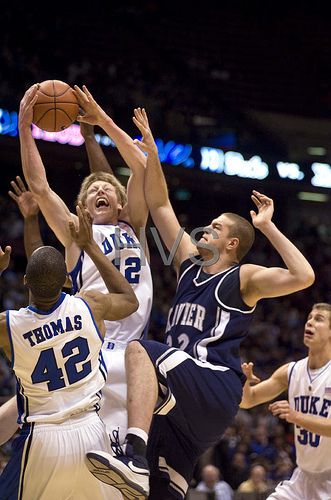basketball: (31, 80, 79, 132)
